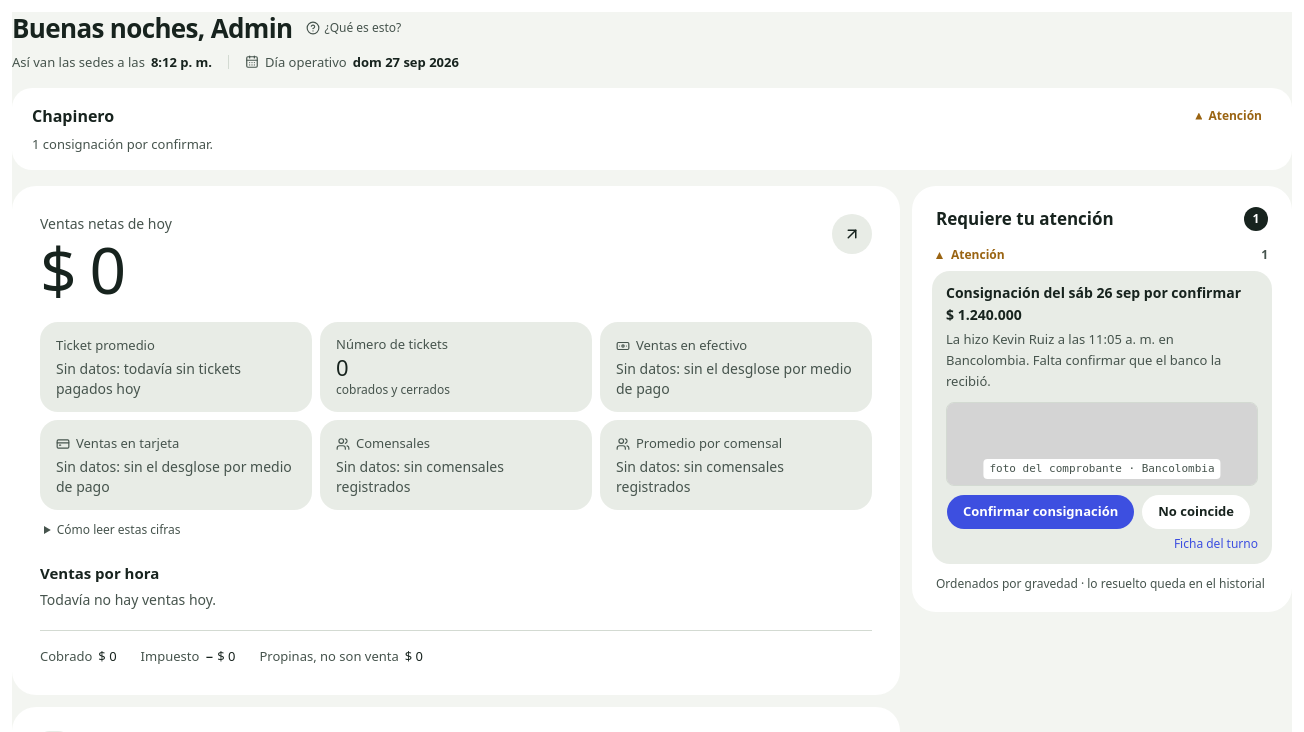
Test: Requiere tu atención — acciones en el lugar › «No coincide» pide el motivo, rechaza con la reversa y deja el rastro sin reversa
The width and height of the screenshot is (1304, 732).
Click the button "No coincide" at (1196,512), box x1=1141 y1=494 x2=1251 y2=530
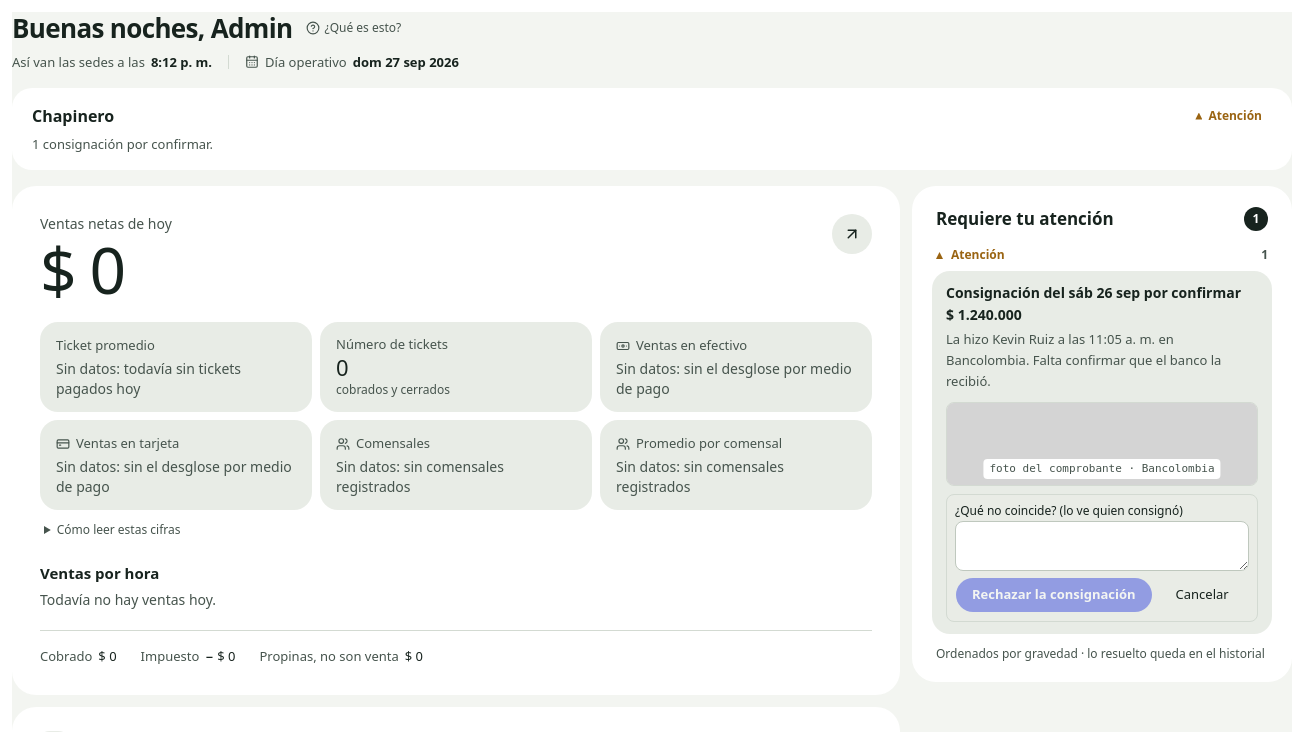
Expected: the button "Rechazar la consignación" is disabled, x1=955 y1=577 x2=1153 y2=613
Type "El banco dice $ 1.200.000" into the text box labelled "¿Qué no coincide? (lo ve quien consignó)" at (1102,546), box x1=955 y1=521 x2=1249 y2=571
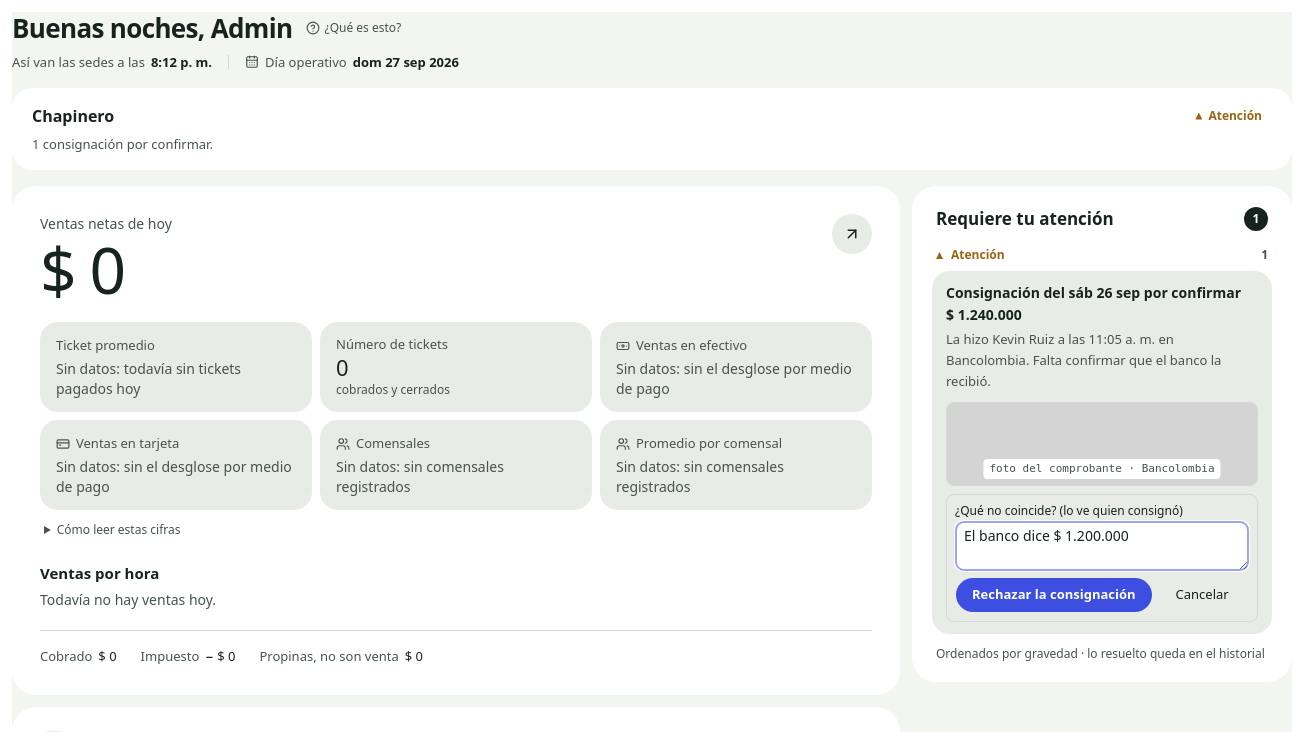
Click the button "Rechazar la consignación" at (1054,595), box x1=955 y1=577 x2=1153 y2=613
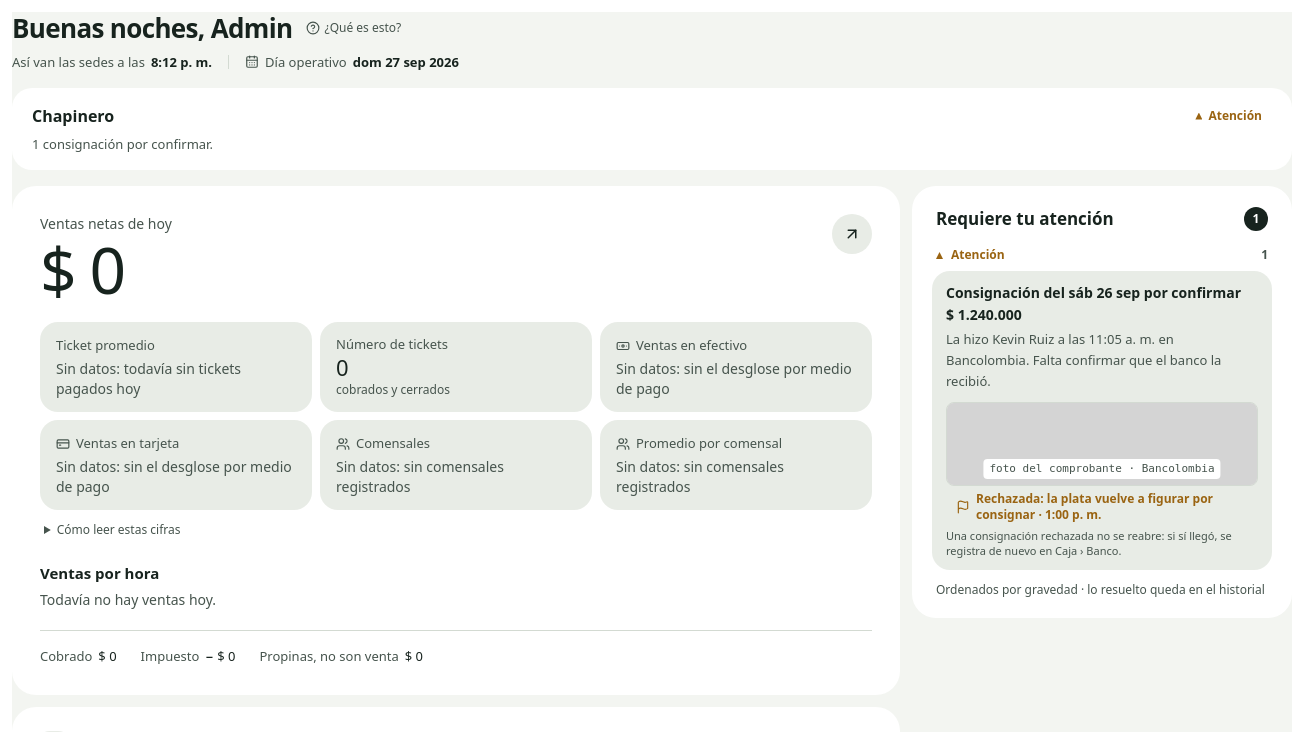
Expected: the text "Rechazada: la plata vuelve a figurar por consignar · 1:00 p. m." is shown, x1=956 y1=490 x2=1213 y2=523
Expected: the text "no se reabre" is shown, x1=946 y1=528 x2=1232 y2=558
